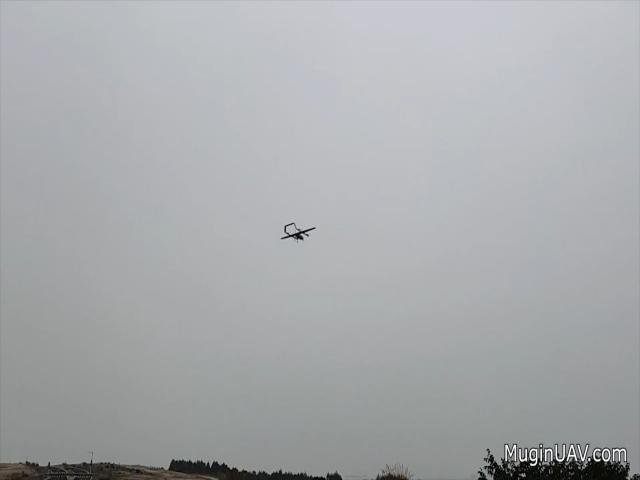plane: (282, 221, 316, 245)
